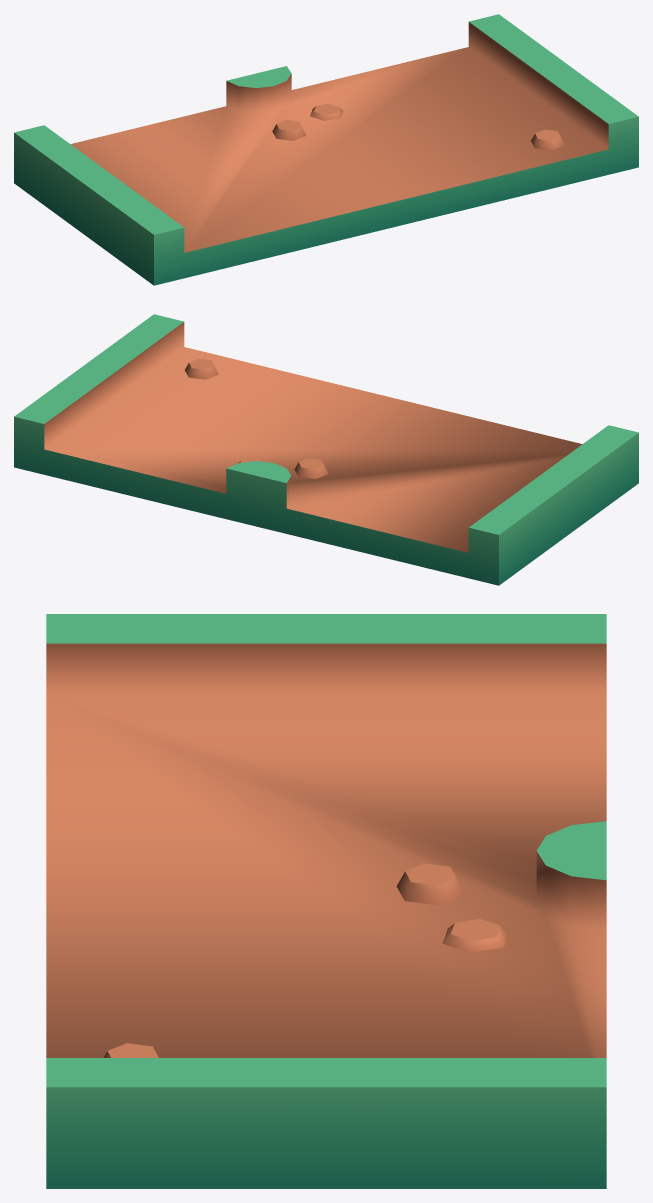
Rendered from kenney-tower-defense-tile-wide-split.glb.
The picture shows the model from 3 angles, top to bottom: view 1: azimuth 30°, elevation 25°; view 2: azimuth 150°, elevation 25°; view 3: azimuth 270°, elevation 25°; orthographic projection. The views are drawn at different scales.
Parts seen in each view (by area): view 1: tile-wide-split; view 2: tile-wide-split; view 3: tile-wide-split.
Boxes of the visible parts, box(x1,y1,x2,y2) form: tile-wide-split: box(14, 14, 638, 285); tile-wide-split: box(14, 314, 638, 585); tile-wide-split: box(46, 614, 606, 1188).
Bounding box in the file's own units: 2 × 0.2 × 1.
Materials: 1 (1 with a texture image).
